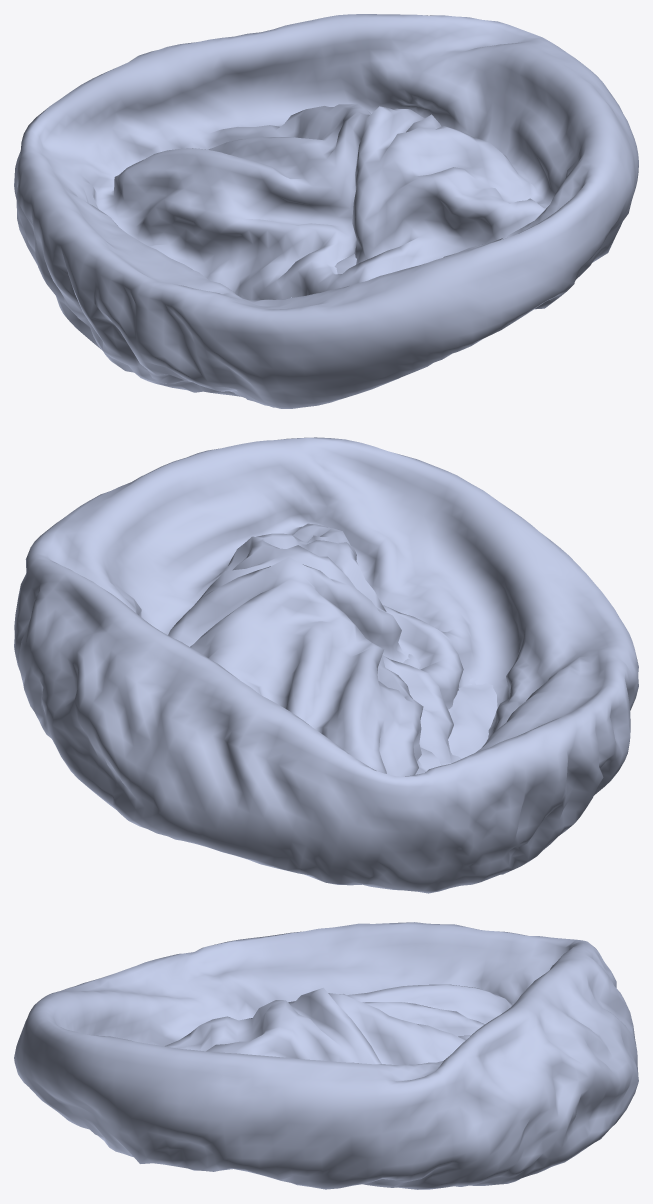
The model's file is pile_01.glb.
The picture shows the model from 3 angles, top to bottom: view 1: azimuth 30°, elevation 25°; view 2: azimuth 150°, elevation 25°; view 3: azimuth 270°, elevation 25°; orthographic projection. The views are drawn at different scales.
Parts seen in each view (by area): view 1: pile_01; view 2: pile_01; view 3: pile_01.
Part boxes in pixels (box(x1,y1,x2,y2)): pile_01: box(14, 14, 638, 408); pile_01: box(14, 437, 638, 893); pile_01: box(14, 922, 638, 1189).
Bounding box in the file's own units: 4.8 × 2.14 × 5.11.
